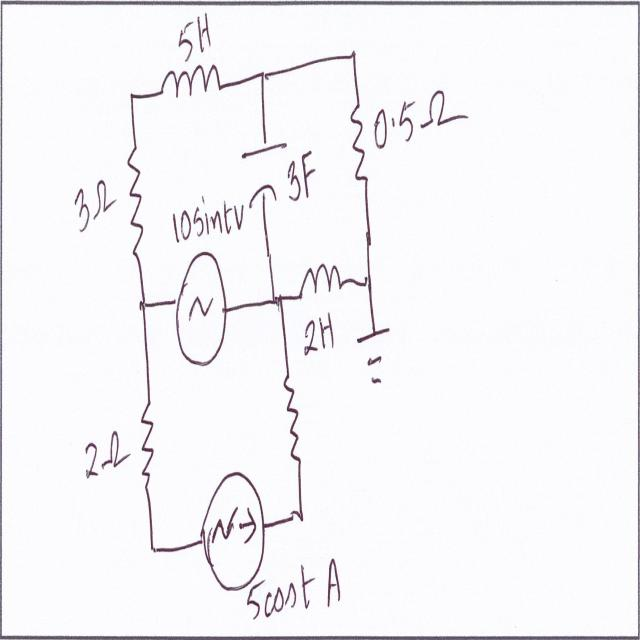ac_current: (172, 248, 229, 372)
capacitor: (239, 139, 290, 209)
current_source: (199, 449, 267, 596)
ground: (352, 326, 401, 404)
inductor: (161, 57, 222, 100), (298, 255, 344, 301)
resistor: (124, 139, 149, 262), (346, 88, 370, 201), (280, 364, 302, 467), (141, 391, 159, 493)
